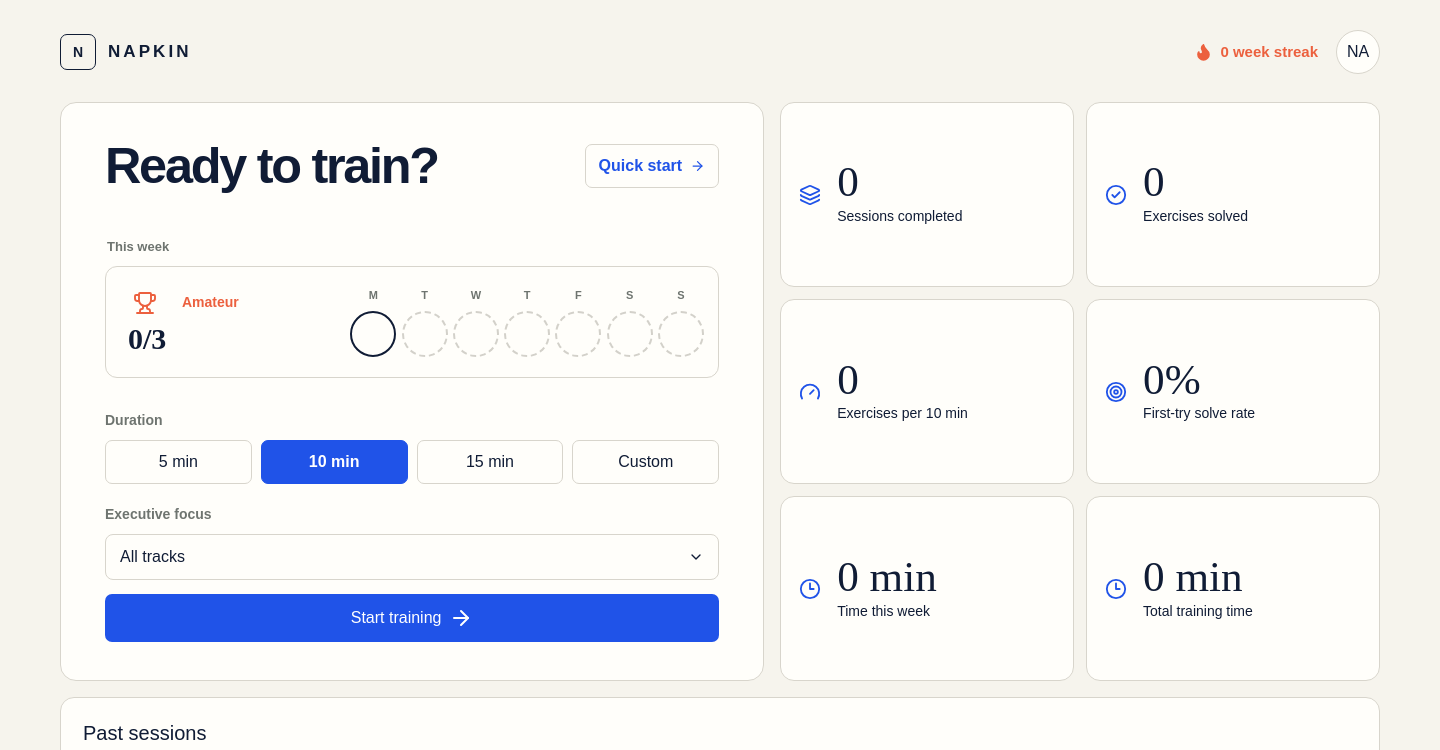
Test: Napkin V1 flow › keeps the selection and offers retry when autosave fails
The image size is (1440, 750).
Click the button with aria-label "Executive focus: All tracks" at {"x": 152, "y": 557}, box [105,534,719,580]
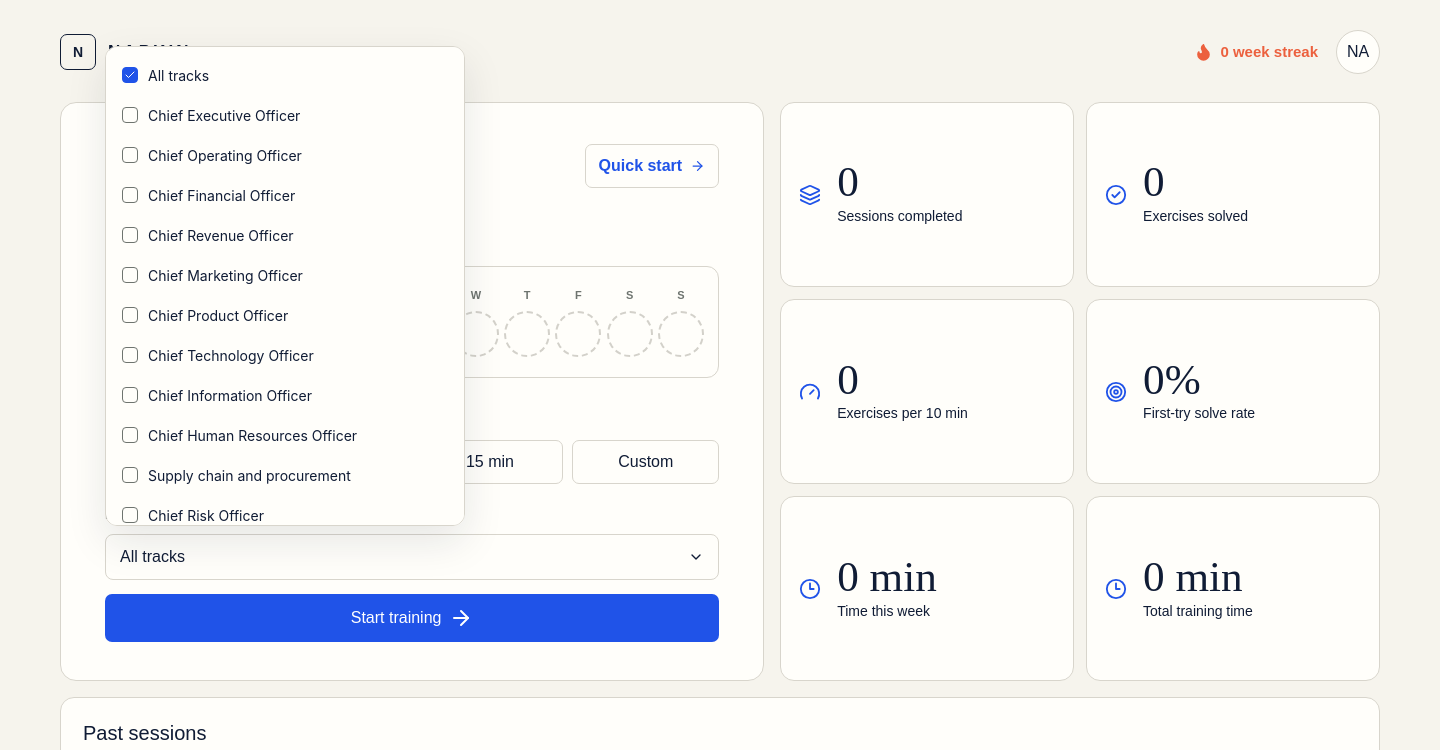
Click the menu item "Chief Financial Officer" at {"x": 209, "y": 195}, box [122,186,295,204]
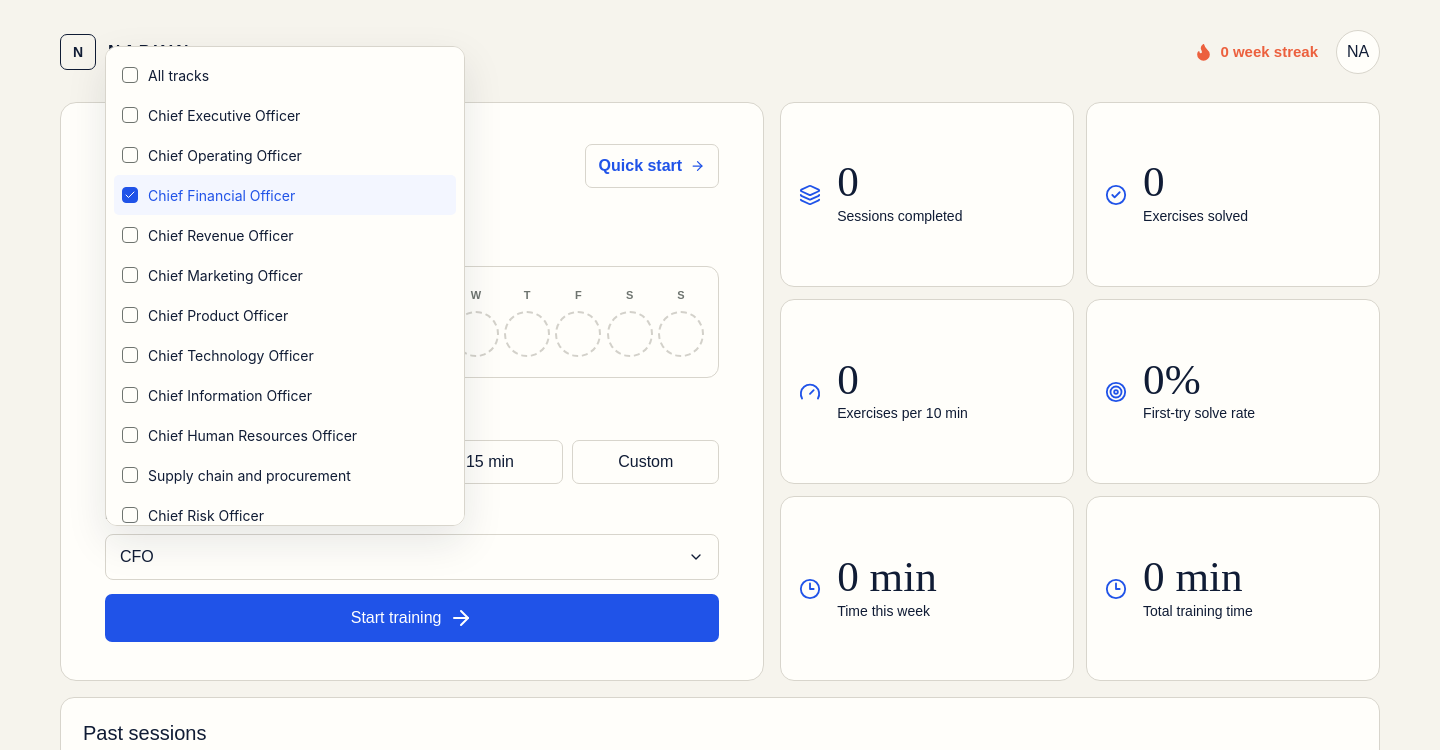
Press Escape
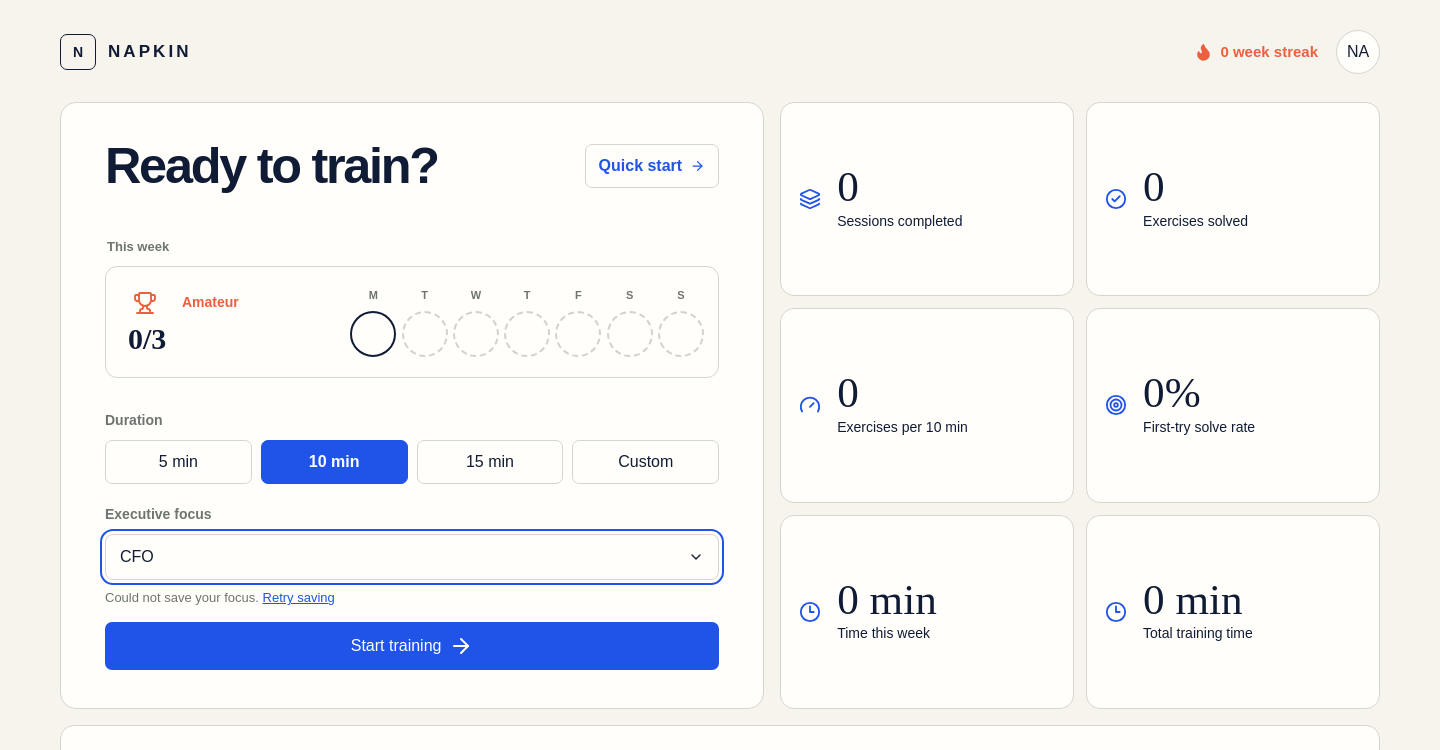
Click the button "Retry saving" at {"x": 299, "y": 598}, box [262,588,335,608]
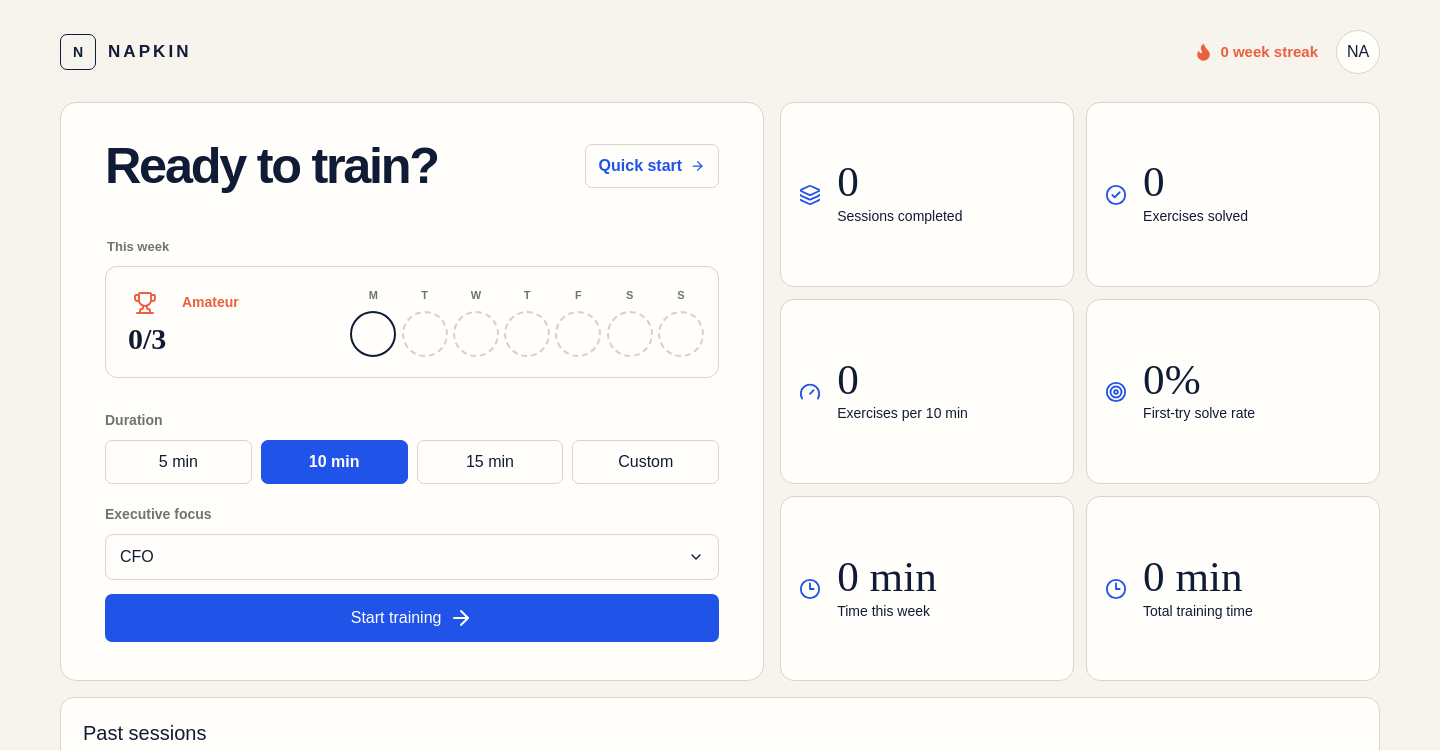
Expected: the button with aria-label "Executive focus: CFO" is shown, [105,534,719,580]
Expected: the button "Retry saving" is gone
